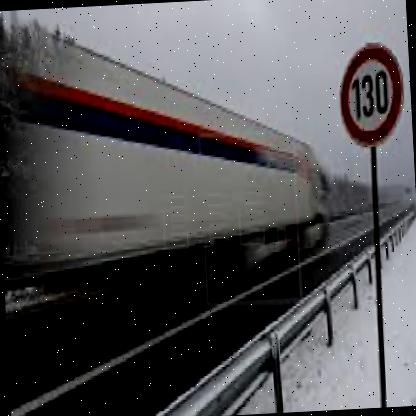speedlimit: (333, 37, 406, 142)
